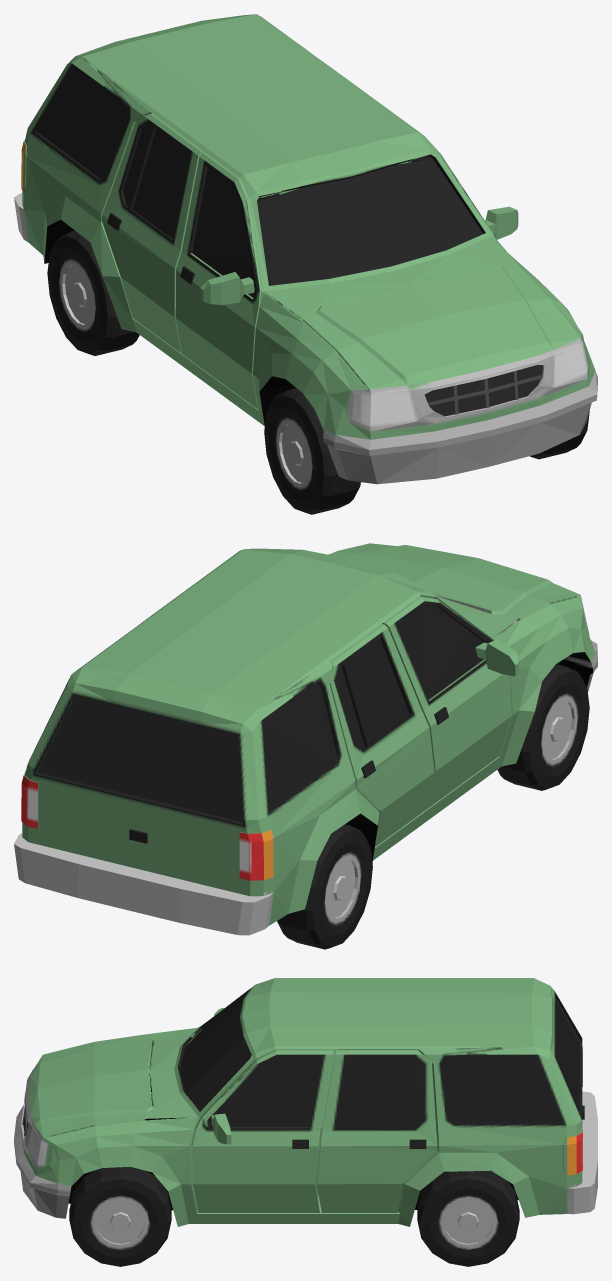
The model's file is Jeep4Combined.fbx.
The picture shows the model from 3 angles, top to bottom: view 1: azimuth 30°, elevation 25°; view 2: azimuth 150°, elevation 25°; view 3: azimuth 270°, elevation 25°; orthographic projection. The views are drawn at different scales.
Visible parts, largest first — view 1: Jeep4Combined; view 2: Jeep4Combined; view 3: Jeep4Combined.
Boxes of the visible parts, x1,y1,x2,y2 form: Jeep4Combined: (14, 14, 597, 514); Jeep4Combined: (14, 543, 597, 949); Jeep4Combined: (14, 978, 597, 1266).
Bounding box in the file's own units: 304 × 240 × 609.
